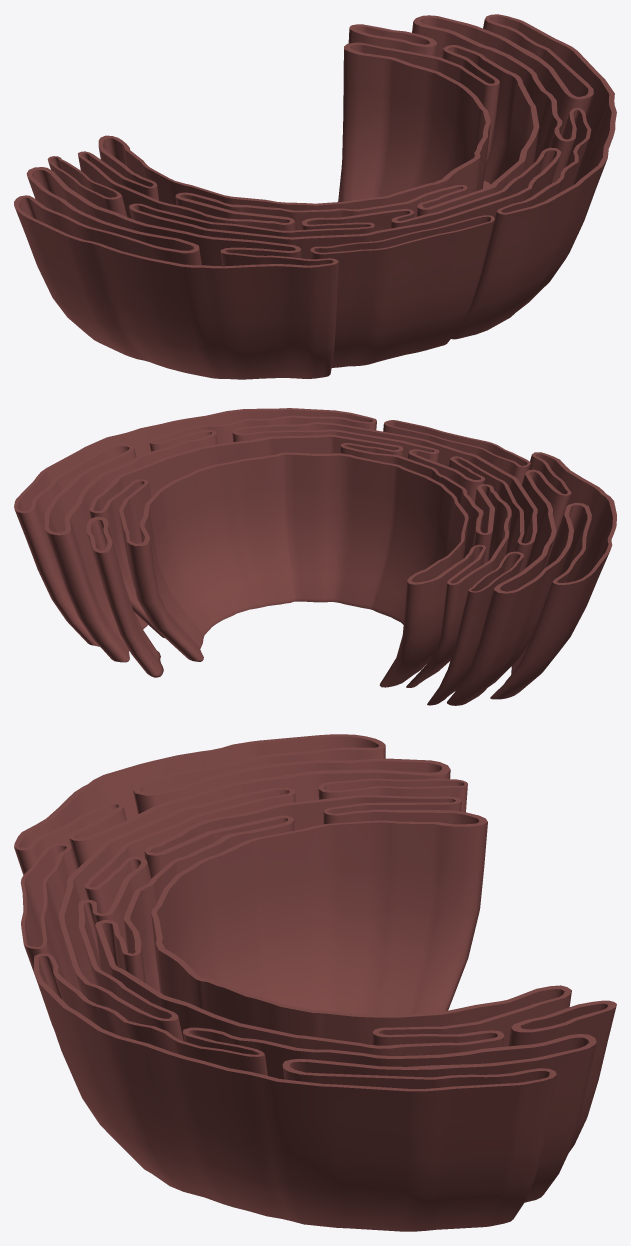
Rendered from Endoplasmic_Reticulum.obj.
3 renders of one model, top to bottom at view 1: azimuth 30°, elevation 25°; view 2: azimuth 150°, elevation 25°; view 3: azimuth 270°, elevation 25°, orthographic. The views are drawn at different scales.
Visible parts, largest first — view 1: Endoplasmic_Reticulum Endoplasmic_Reticulum Cell; view 2: Endoplasmic_Reticulum Endoplasmic_Reticulum Cell; view 3: Endoplasmic_Reticulum Endoplasmic_Reticulum Cell.
Part boxes in pixels (x1,y1,x2,y2): Endoplasmic_Reticulum Endoplasmic_Reticulum Cell: (14, 14, 616, 379); Endoplasmic_Reticulum Endoplasmic_Reticulum Cell: (14, 408, 616, 705); Endoplasmic_Reticulum Endoplasmic_Reticulum Cell: (14, 734, 616, 1231).
Size of the model in its own units: 96.29 by 23.52 by 68.7.
